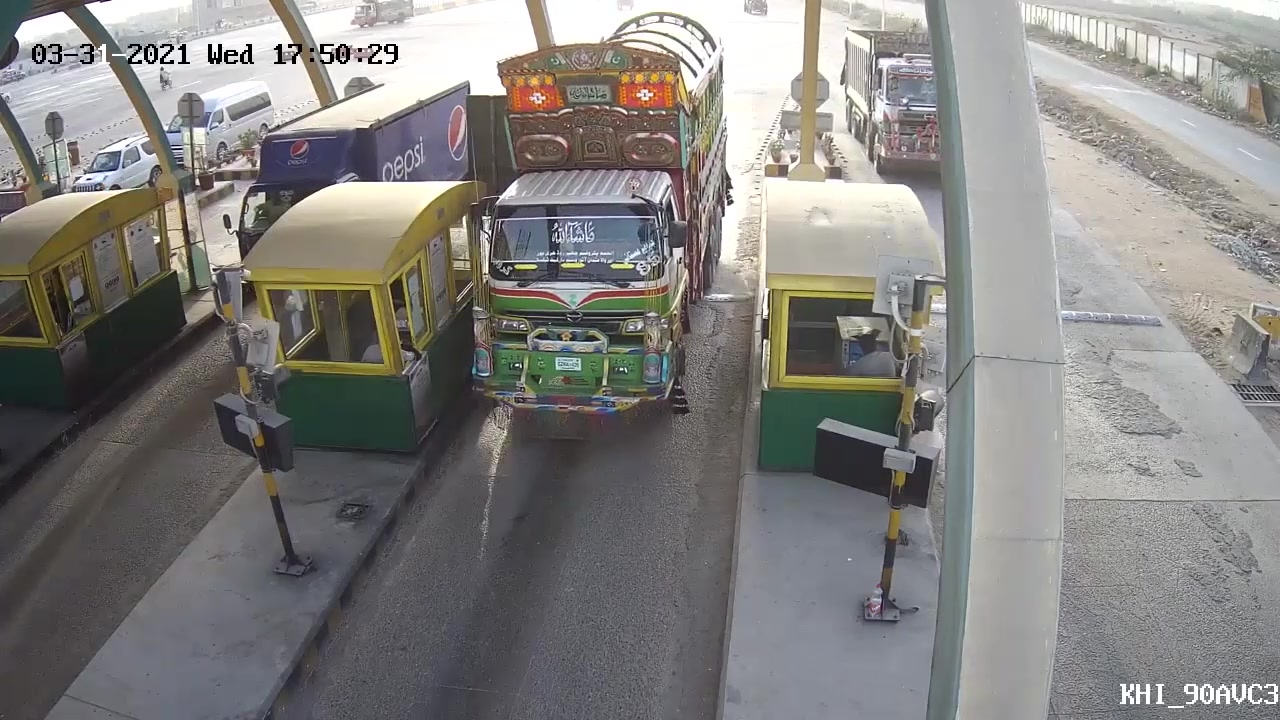F5: (465, 5, 740, 417)
